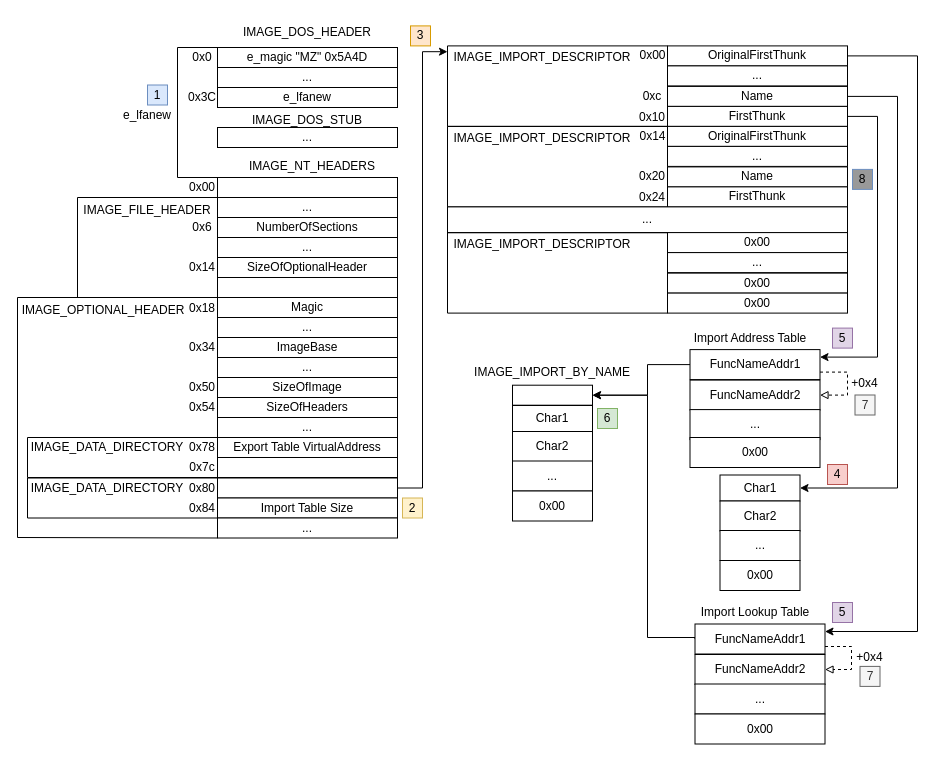
Some shapes in this 943 by 761 pixel diagram are drawn without their labels. The shapes that lost their labels are listed below. From the top down, each one's centre as x and y in pixels, then its label:
point 307,187: Signature "PE" 0x4550
point 307,287: Characteristics
point 552,394: Hint
point 307,467: Export Table Size
point 307,487: Import Table VirtualAddress
